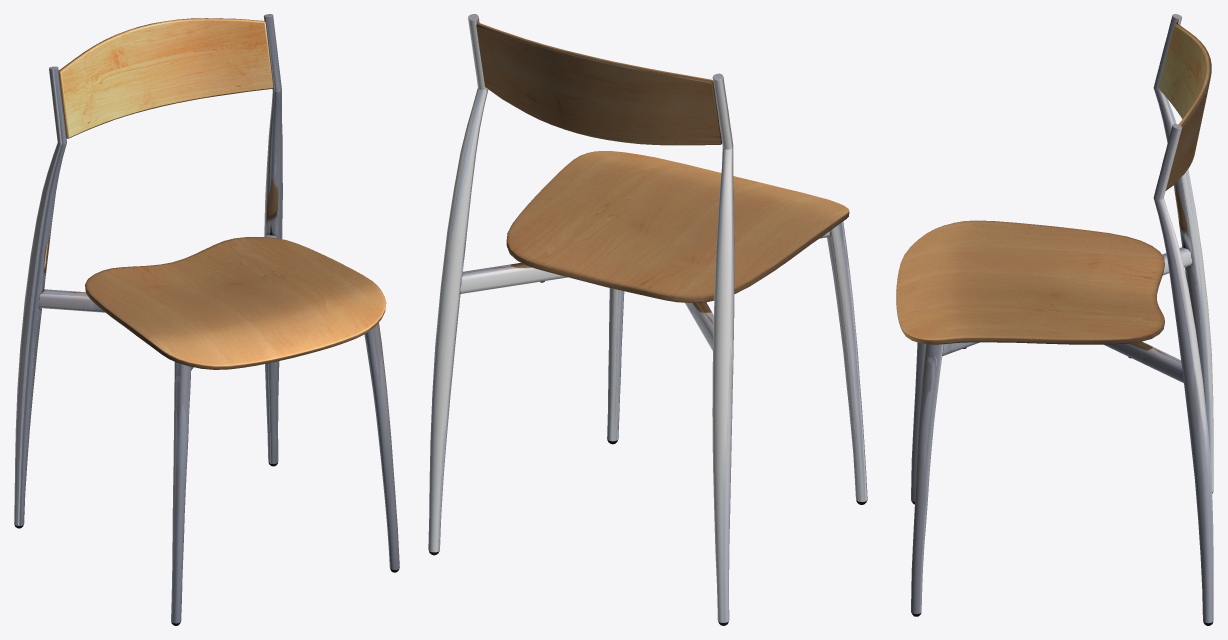
File: amelia.glb
3 views of the same model, side by side, from view 1: azimuth 30°, elevation 25°; view 2: azimuth 150°, elevation 25°; view 3: azimuth 270°, elevation 25° (orthographic). The views are drawn at different scales.
Parts seen in each view (by area): view 1: amelia-beech; view 2: amelia-beech; view 3: amelia-beech.
Part boxes in pixels (bbox=[...]): amelia-beech: bbox=[14, 14, 399, 625]; amelia-beech: bbox=[428, 14, 867, 625]; amelia-beech: bbox=[896, 14, 1213, 625].
Bounding box in the file's own units: 0.4668 × 0.7997 × 0.4653.
Materials: 1 (1 with a texture image).
